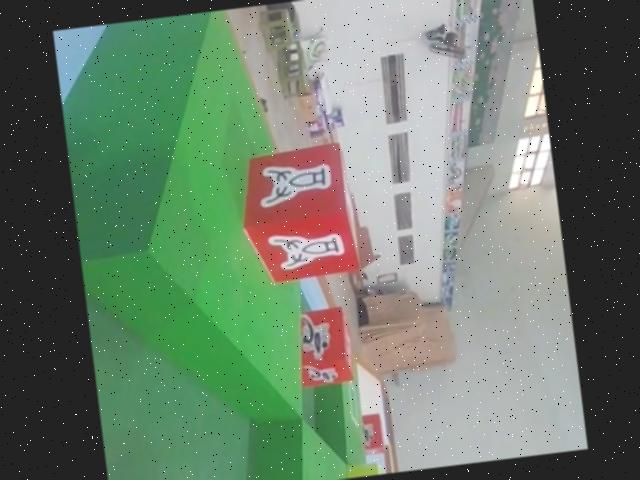R1: (278, 305, 359, 395)
R2 Real: (227, 141, 364, 290)
